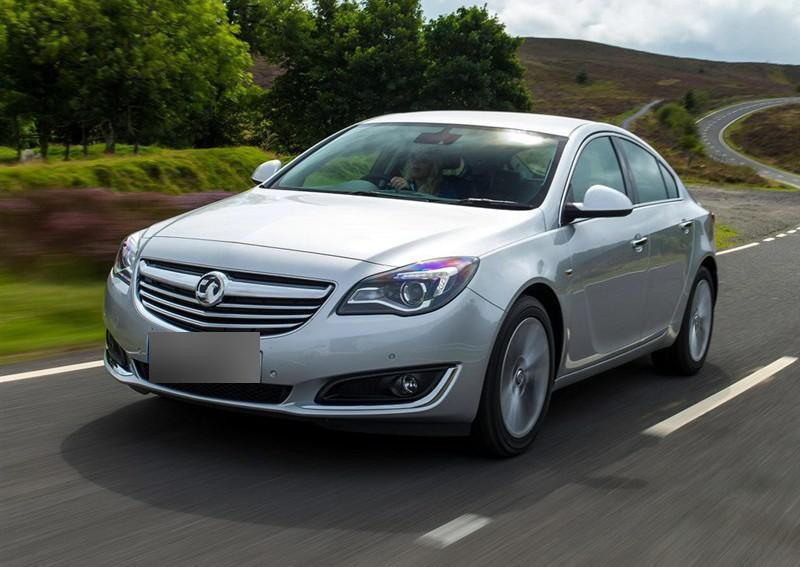Wagon: (105, 109, 720, 461)
